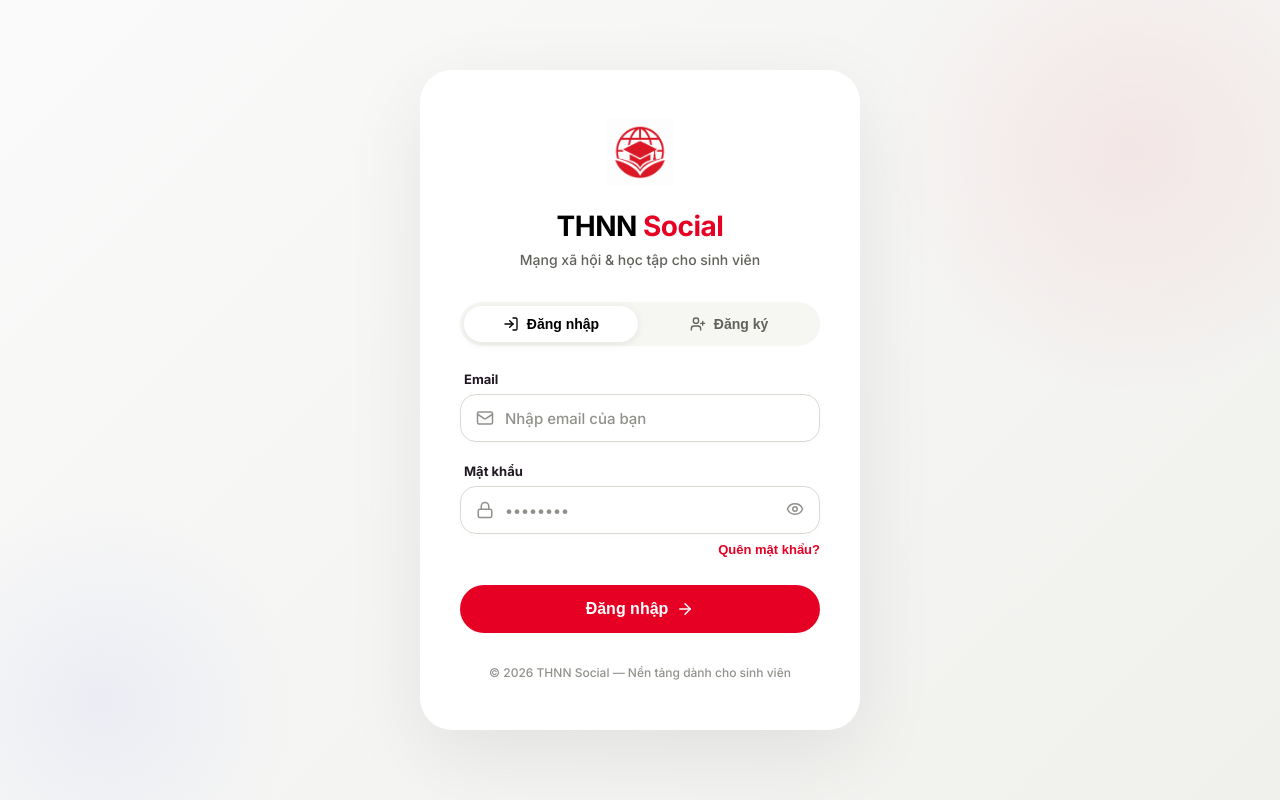
Test: AuthPage — login › login_throw_shows_server_connection_error
Type "a@b.c" into the field with id "login-email" at (640, 418), box [460,394,820,442]
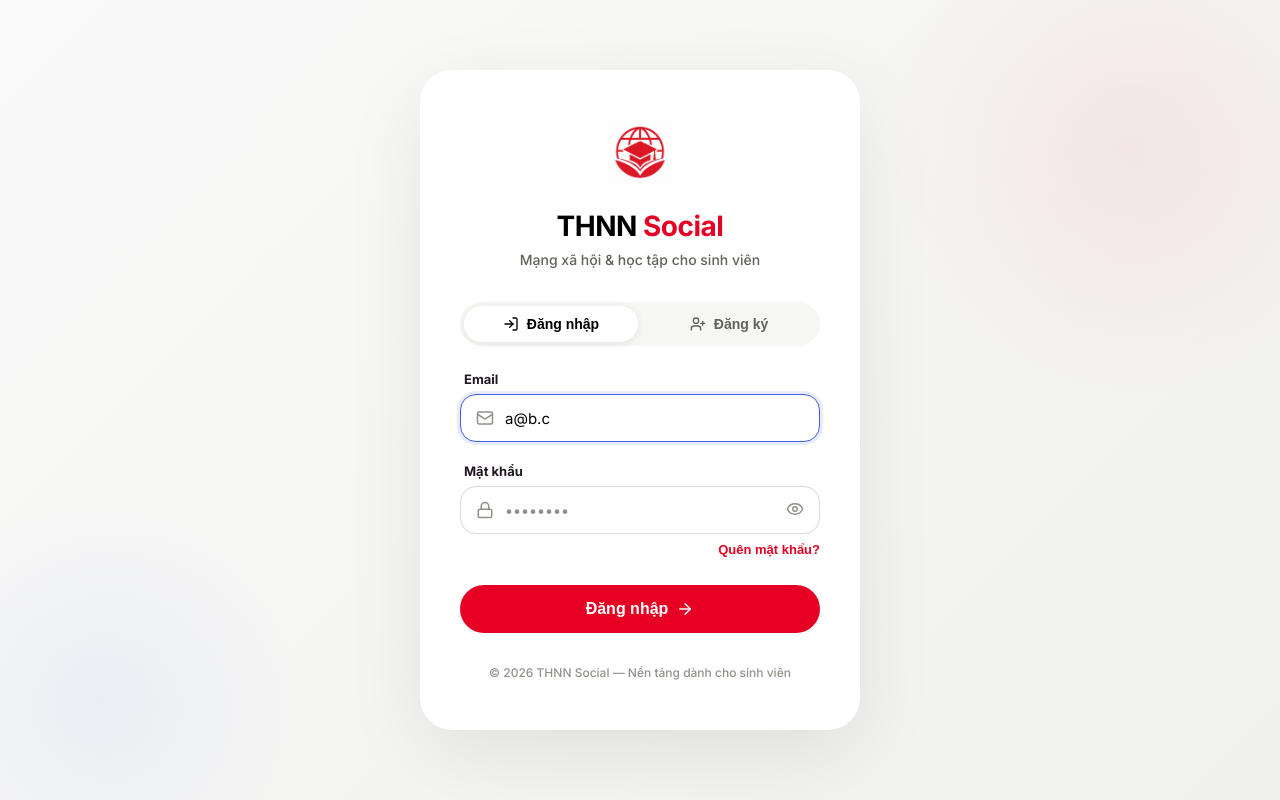
Type "p" into the password field with id "login-password" at (640, 510), box [460,486,820,534]
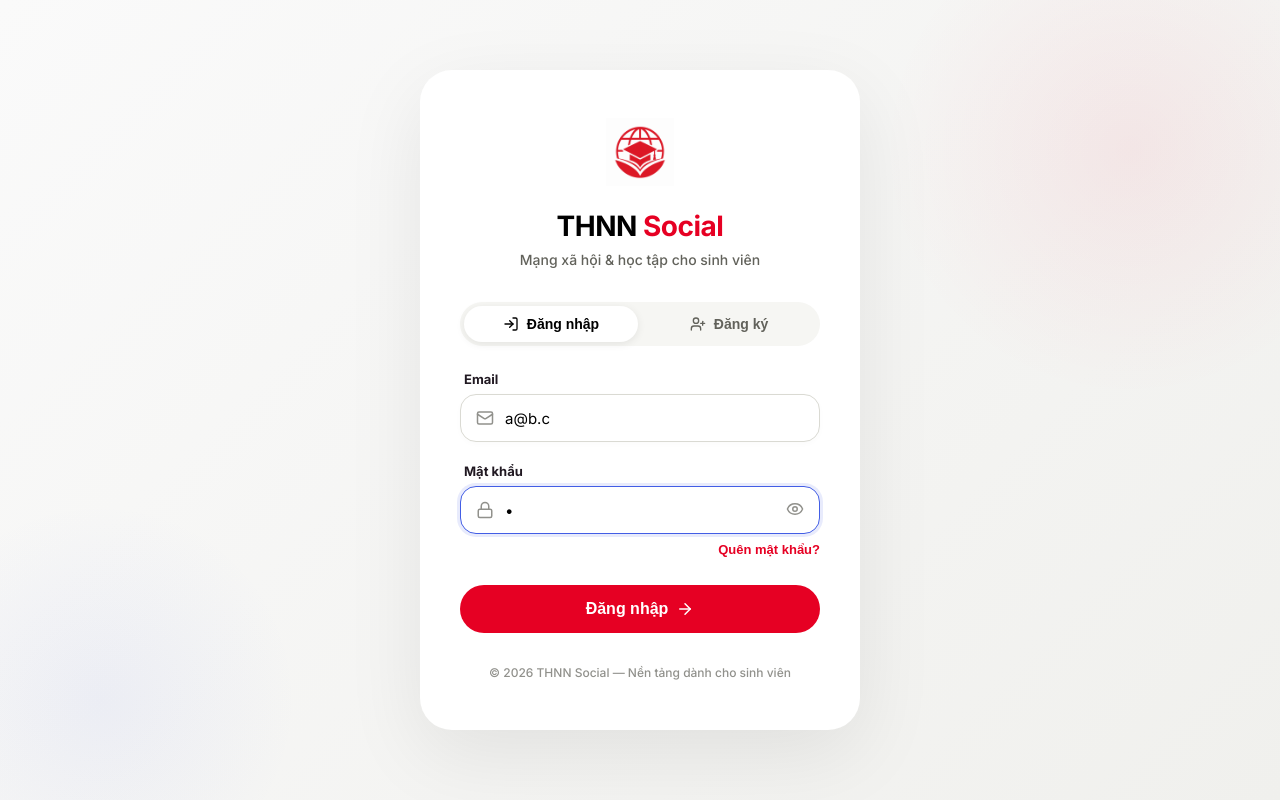
Click the submit button at (640, 609), box [460,585,820,633]
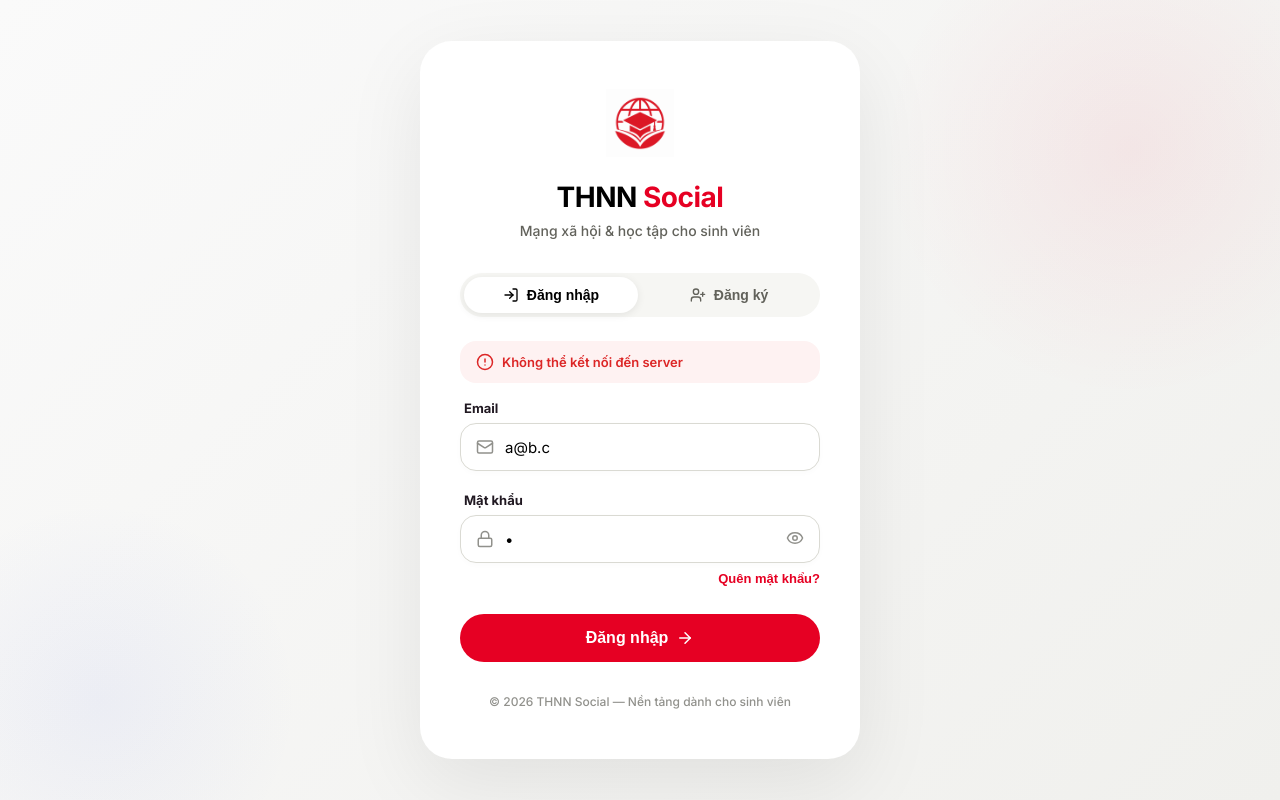
Expected: the text "Không thể kết nối đến server" is shown, [460,341,820,383]
